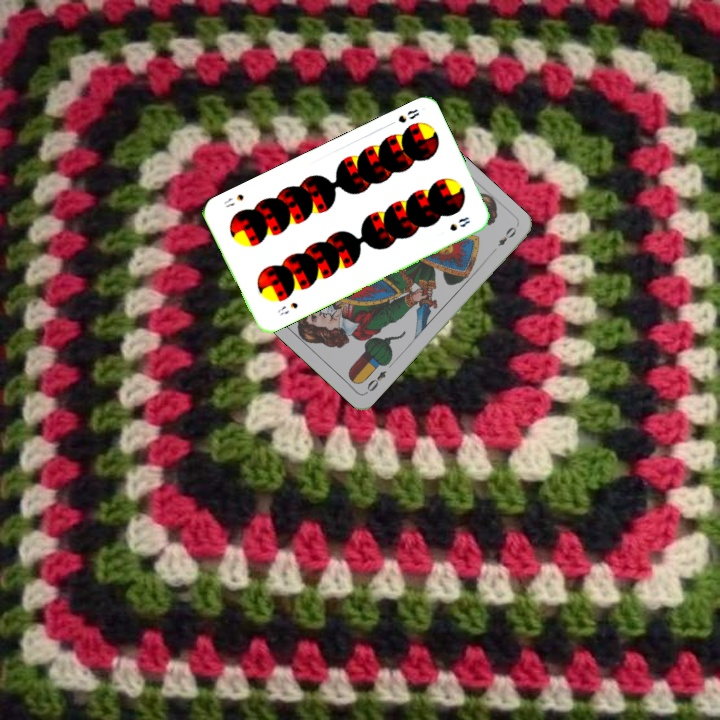EO: (361, 366, 389, 396)
S8: (384, 105, 422, 128), (273, 298, 301, 318)
